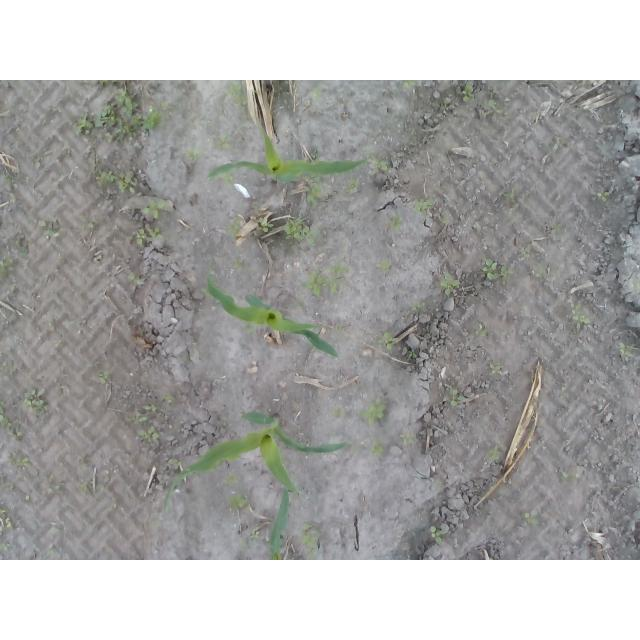Maize: (162, 411, 351, 510), (207, 279, 340, 358), (207, 123, 367, 186), (271, 488, 289, 561)
Weeds: (70, 87, 170, 143), (303, 263, 353, 296), (282, 215, 322, 249), (481, 255, 515, 286), (96, 168, 137, 193), (0, 400, 24, 441), (355, 399, 389, 426), (221, 80, 247, 114), (502, 185, 522, 226), (129, 226, 163, 247), (302, 521, 320, 560), (23, 388, 49, 414), (142, 197, 171, 219), (37, 219, 65, 241), (438, 272, 462, 297), (303, 176, 321, 209), (366, 153, 394, 174), (375, 329, 399, 353), (570, 301, 592, 327), (225, 493, 251, 512), (80, 481, 115, 495), (136, 424, 160, 444), (460, 80, 479, 104), (211, 134, 235, 151), (618, 342, 638, 362), (227, 213, 242, 239), (449, 386, 466, 408), (0, 254, 14, 280), (483, 99, 505, 115), (0, 508, 14, 533), (415, 197, 434, 215), (258, 215, 275, 234), (430, 524, 445, 545), (182, 148, 206, 161), (368, 440, 385, 457), (390, 207, 402, 231), (472, 320, 488, 337), (400, 432, 417, 448), (345, 176, 361, 192), (1, 174, 17, 190), (531, 262, 546, 279), (80, 216, 97, 231), (374, 257, 391, 272), (359, 143, 377, 157), (7, 455, 29, 466), (127, 415, 149, 426), (97, 370, 112, 386), (44, 481, 64, 493), (489, 363, 505, 378), (18, 240, 30, 259), (596, 190, 612, 204), (432, 95, 448, 109), (224, 472, 240, 486), (406, 127, 417, 146), (559, 383, 570, 401), (280, 97, 293, 112), (0, 480, 16, 492), (143, 403, 160, 414), (159, 391, 177, 401), (167, 458, 182, 470), (207, 256, 217, 273), (311, 86, 321, 103), (330, 407, 347, 417), (231, 257, 243, 271), (31, 155, 42, 170), (409, 304, 427, 313), (553, 135, 567, 146), (286, 302, 305, 310), (402, 81, 417, 91), (560, 472, 577, 480), (249, 529, 261, 539), (487, 447, 497, 459), (336, 319, 343, 336), (239, 538, 248, 551), (95, 80, 114, 86), (630, 279, 640, 290), (551, 223, 561, 234), (519, 247, 530, 257), (392, 319, 405, 327), (127, 271, 137, 281), (408, 349, 417, 360), (440, 214, 449, 225), (48, 549, 63, 555), (519, 512, 529, 521), (240, 120, 251, 128), (0, 541, 8, 550), (23, 495, 33, 502), (319, 299, 329, 305)
